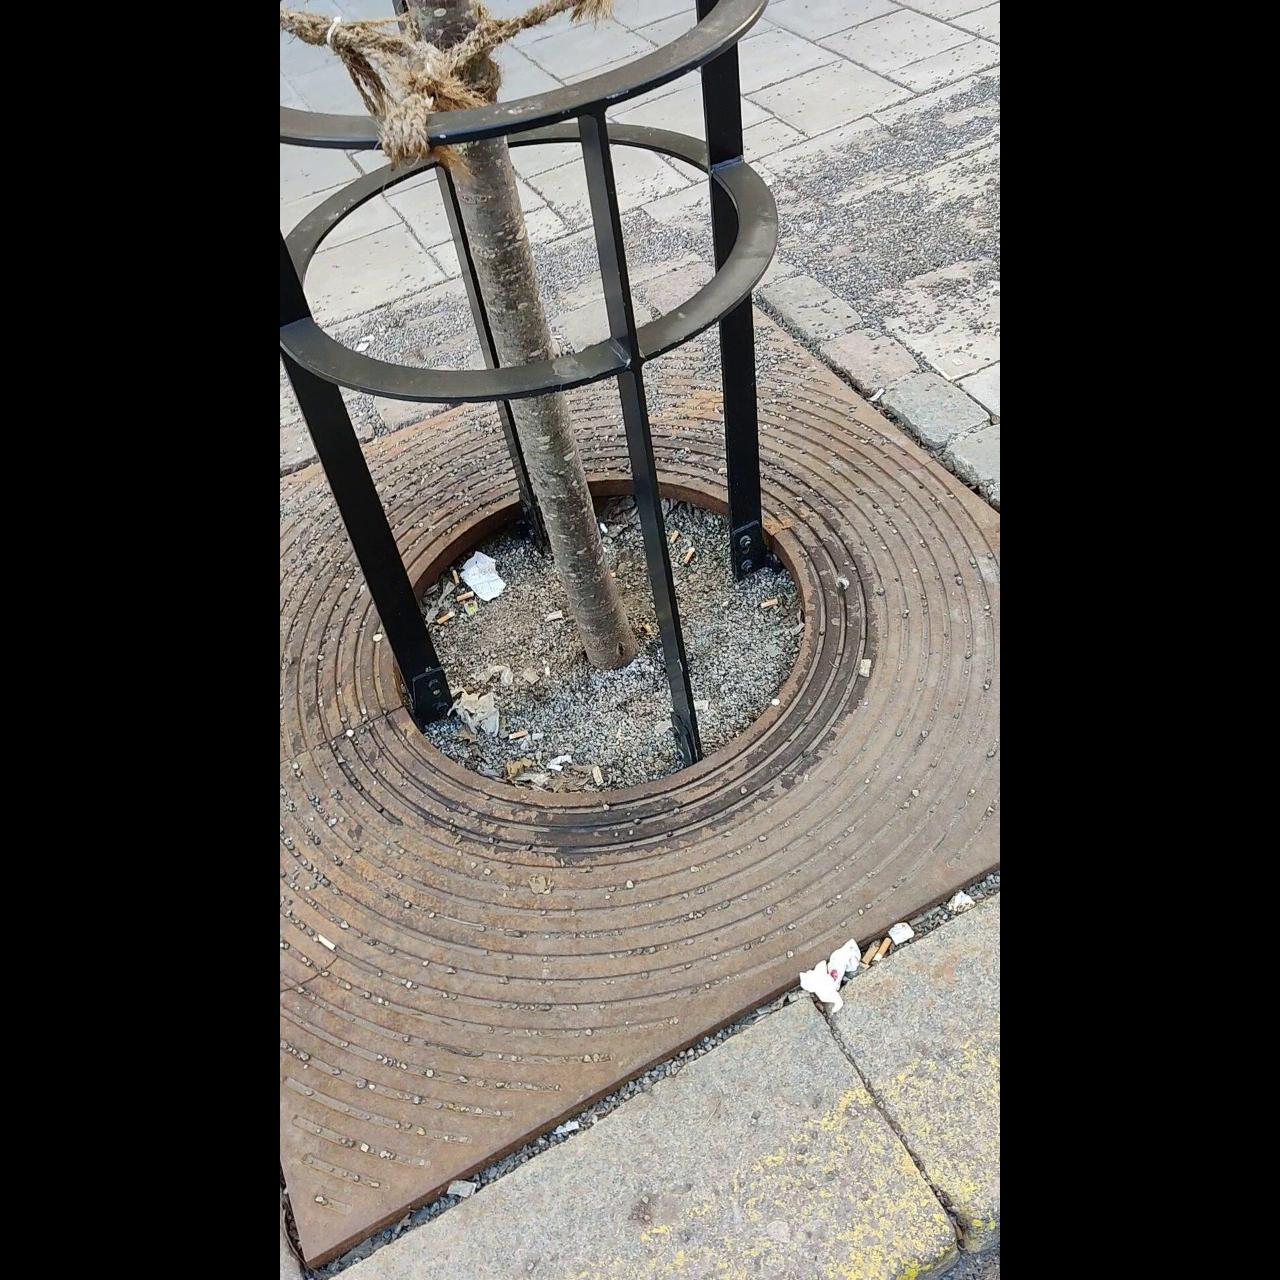cigarettes_butts: (876, 937, 892, 967), (436, 613, 456, 627), (511, 727, 527, 742), (863, 942, 874, 964), (667, 527, 681, 544), (762, 597, 778, 610), (458, 590, 474, 600), (686, 546, 694, 564), (450, 567, 459, 581)
others: (449, 1177, 475, 1201), (591, 764, 607, 787), (867, 386, 886, 404), (544, 610, 564, 622), (859, 658, 873, 675)
